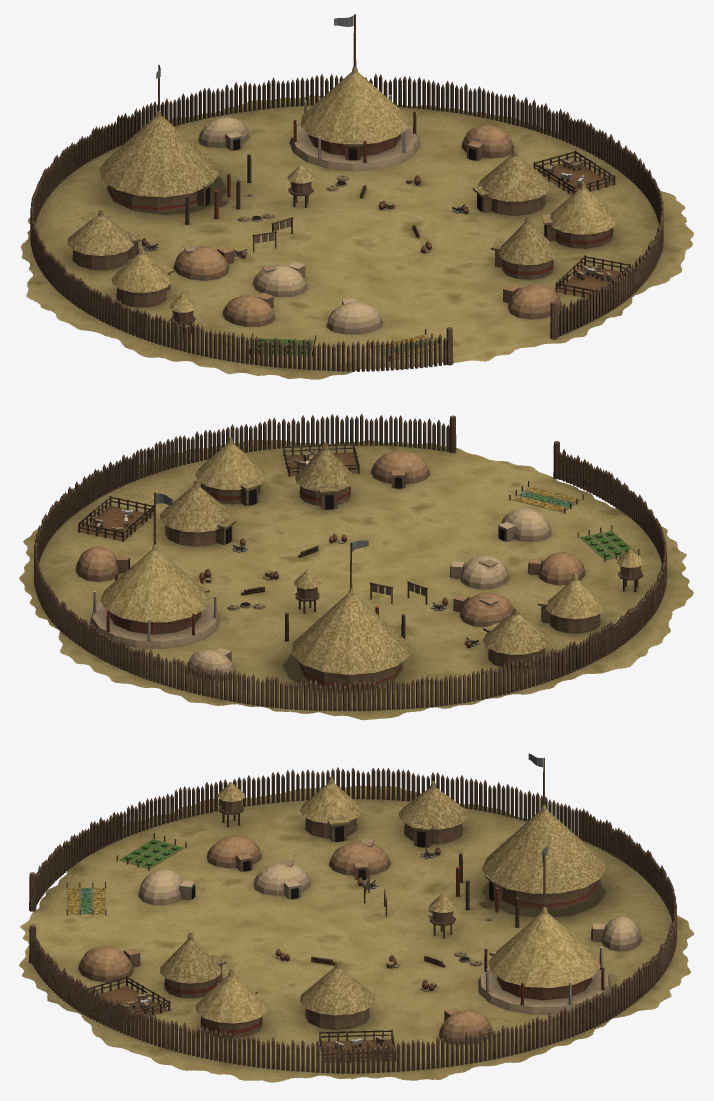
File: stone-town-medium-a-eastafrica.glb
3 views of the same model, one above another, from view 1: azimuth 30°, elevation 25°; view 2: azimuth 150°, elevation 25°; view 3: azimuth 270°, elevation 25° (orthographic). The views are drawn at different scales.
Visible parts, largest first — view 1: LOD0; view 2: LOD0; view 3: LOD0.
Boxes of the visible parts, x1,y1,x2,y2 form: LOD0: [21, 14, 693, 379]; LOD0: [19, 413, 693, 720]; LOD0: [19, 753, 694, 1082].
Size of what is drawn, in the model's own units: 5.99 by 1.25 by 5.71.
Materials: 3 (3 with a texture image).
